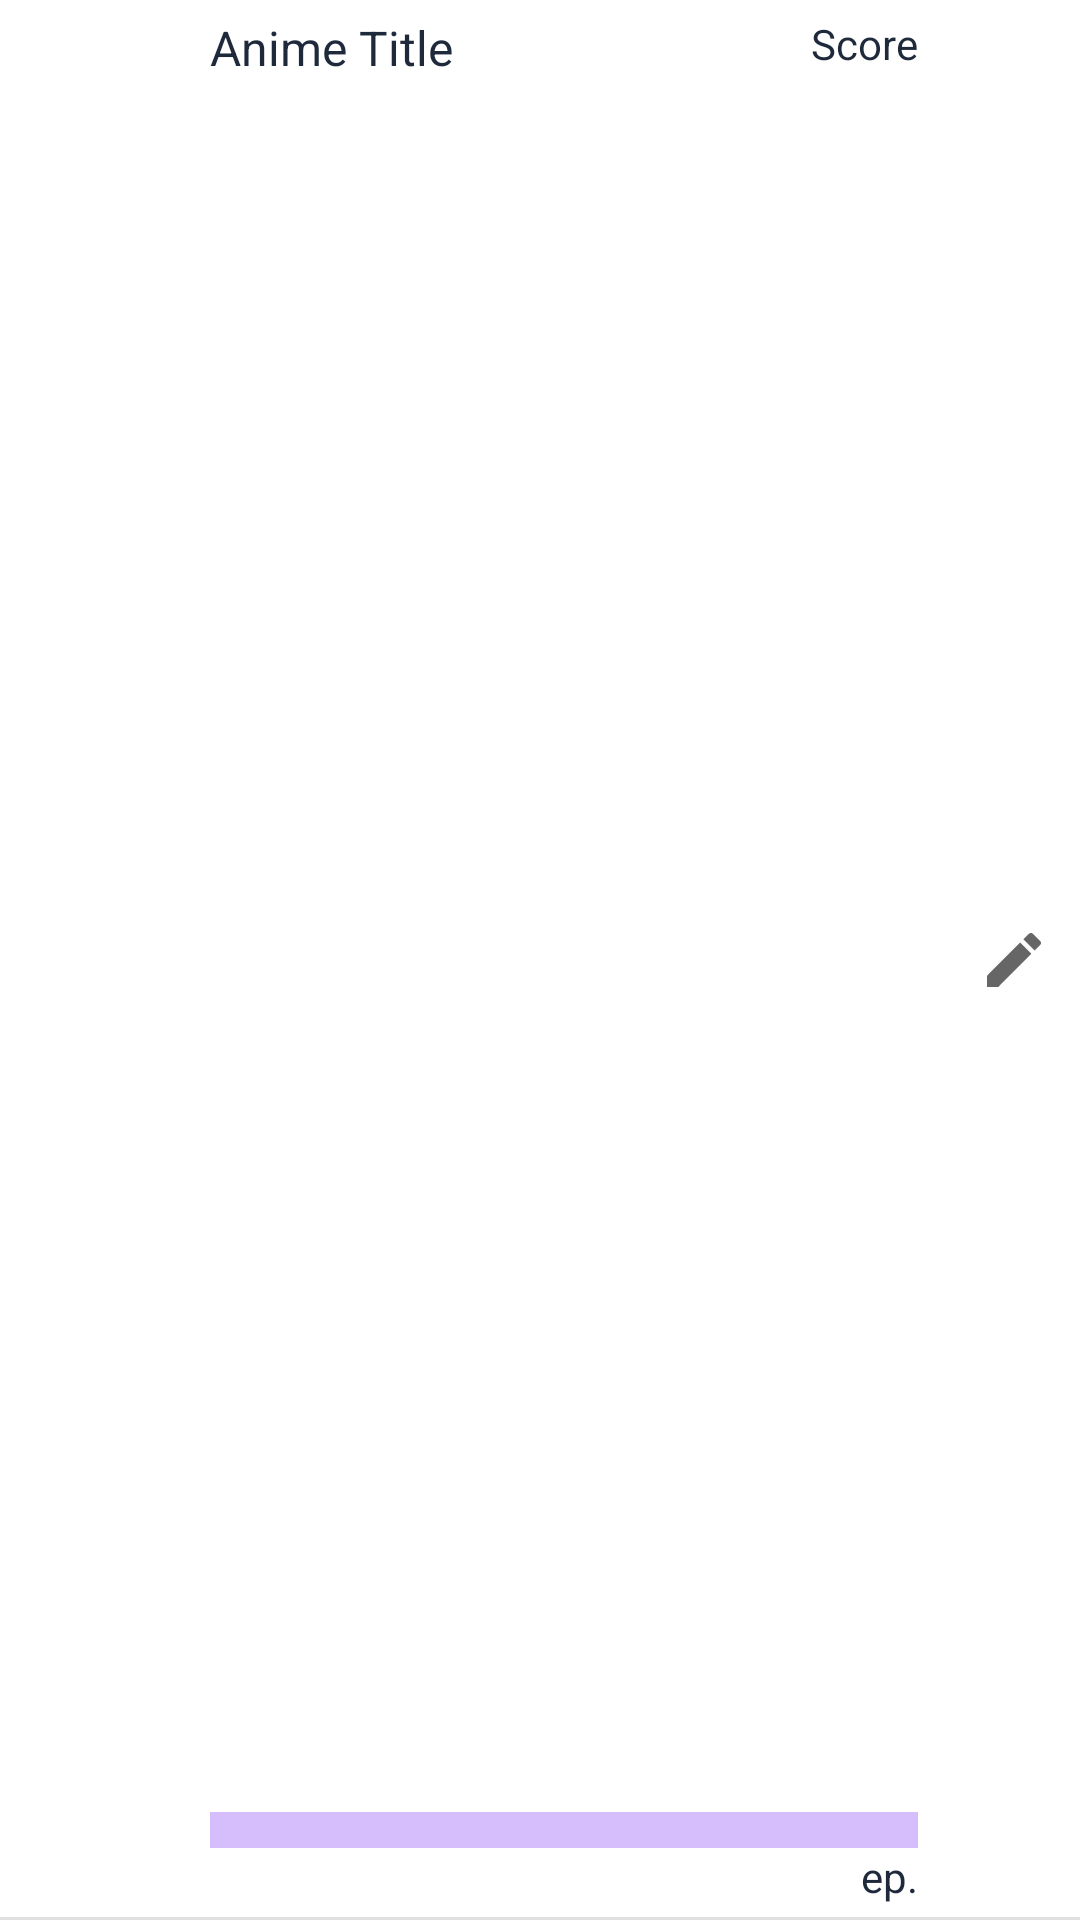

Icons on this 1080×1920 Android screen, each with the point to tap as [x,y]:
edit: [1014,960]
